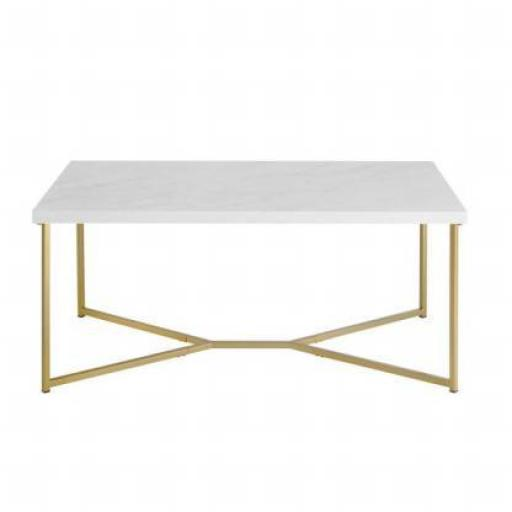table: (30, 156, 470, 398)
